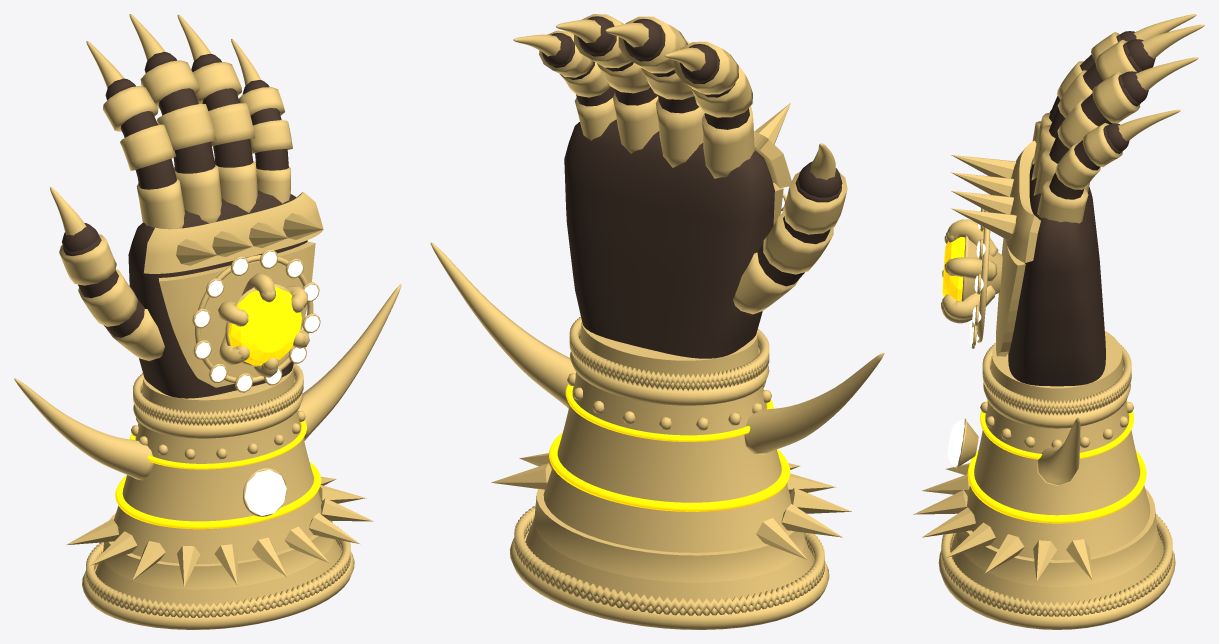
File: gloves_power_legendary.glb
3 renders of one model, left to right at view 1: azimuth 30°, elevation 25°; view 2: azimuth 150°, elevation 25°; view 3: azimuth 270°, elevation 25°, orthographic. The views are drawn at different scales.
Visible parts, largest first — view 1: gloves_power_legendary; view 2: gloves_power_legendary; view 3: gloves_power_legendary.
Boxes of the visible parts, box(x1,y1,x2,y2) form: gloves_power_legendary: box(14, 14, 401, 629); gloves_power_legendary: box(430, 14, 884, 629); gloves_power_legendary: box(913, 14, 1204, 629).
Size of the model in its own units: 2.27 by 2.91 by 1.43.
